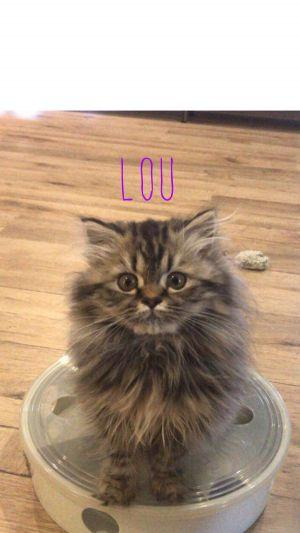persian: (73, 195, 240, 349)
